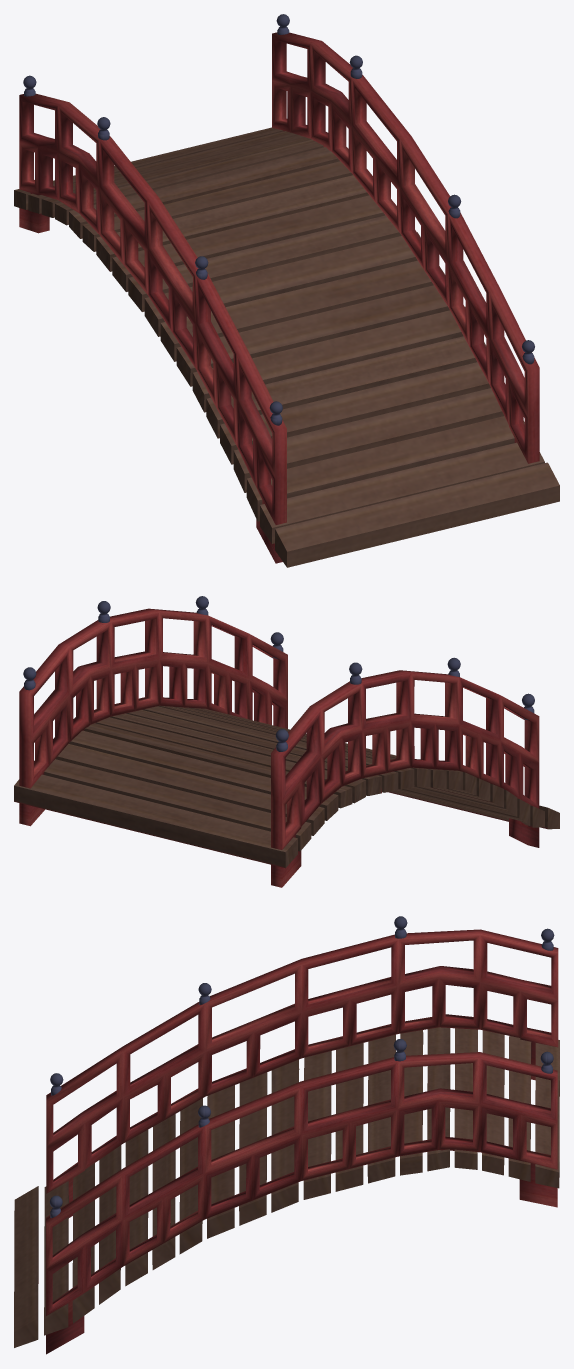
File: VIPBridge01_Art.glb
3 renders of one model, top to bottom at view 1: azimuth 30°, elevation 25°; view 2: azimuth 150°, elevation 25°; view 3: azimuth 270°, elevation 25°, orthographic.
Visible parts, largest first — view 1: VIPBridge01_Art; view 2: VIPBridge01_Art; view 3: VIPBridge01_Art.
Part boxes in pixels (bbox=[...]): VIPBridge01_Art: bbox=[14, 14, 559, 567]; VIPBridge01_Art: bbox=[14, 596, 559, 887]; VIPBridge01_Art: bbox=[14, 916, 559, 1354].
Size of the model in its own units: 6.73 by 7.39 by 11.69.
Materials: 1 (1 with a texture image).
